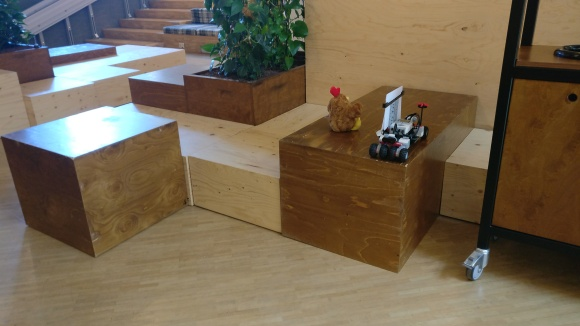chicken: (326, 85, 364, 133)
